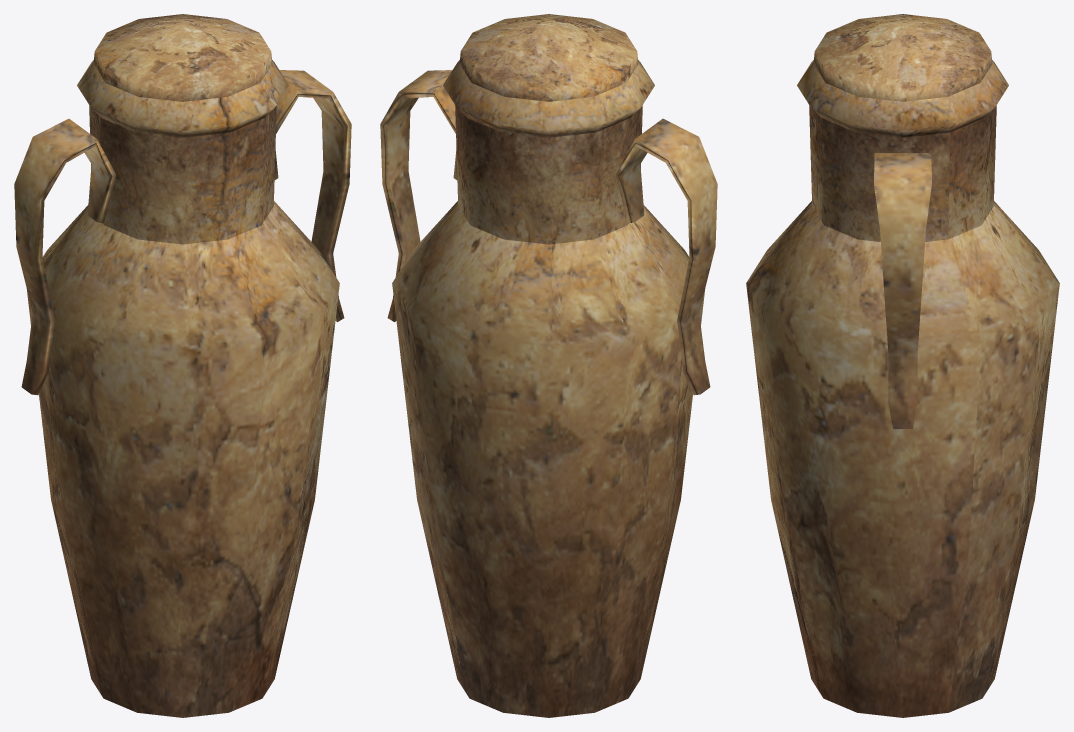
Rendered from Jug1_LOD1.fbx.
The picture shows the model from 3 angles, left to right: view 1: azimuth 30°, elevation 25°; view 2: azimuth 150°, elevation 25°; view 3: azimuth 270°, elevation 25°; orthographic projection.
Visible parts, largest first — view 1: polySurface264; view 2: polySurface264; view 3: polySurface264.
Boxes of the visible parts, box(x1,y1,x2,y2) form: polySurface264: box(14, 14, 351, 717); polySurface264: box(380, 14, 717, 717); polySurface264: box(746, 14, 1059, 717).
Bounding box in the file's own units: 0.5642 × 1.12 × 0.4875.
Materials: 1 (1 with a texture image).
